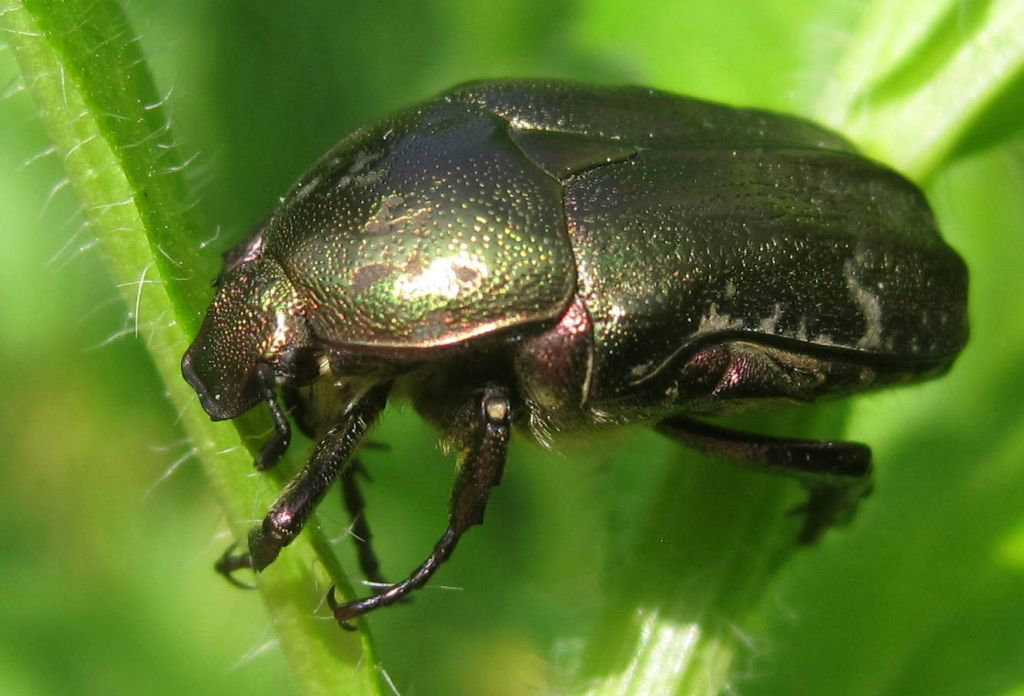Protaetia_metallica: (158, 56, 978, 639)
